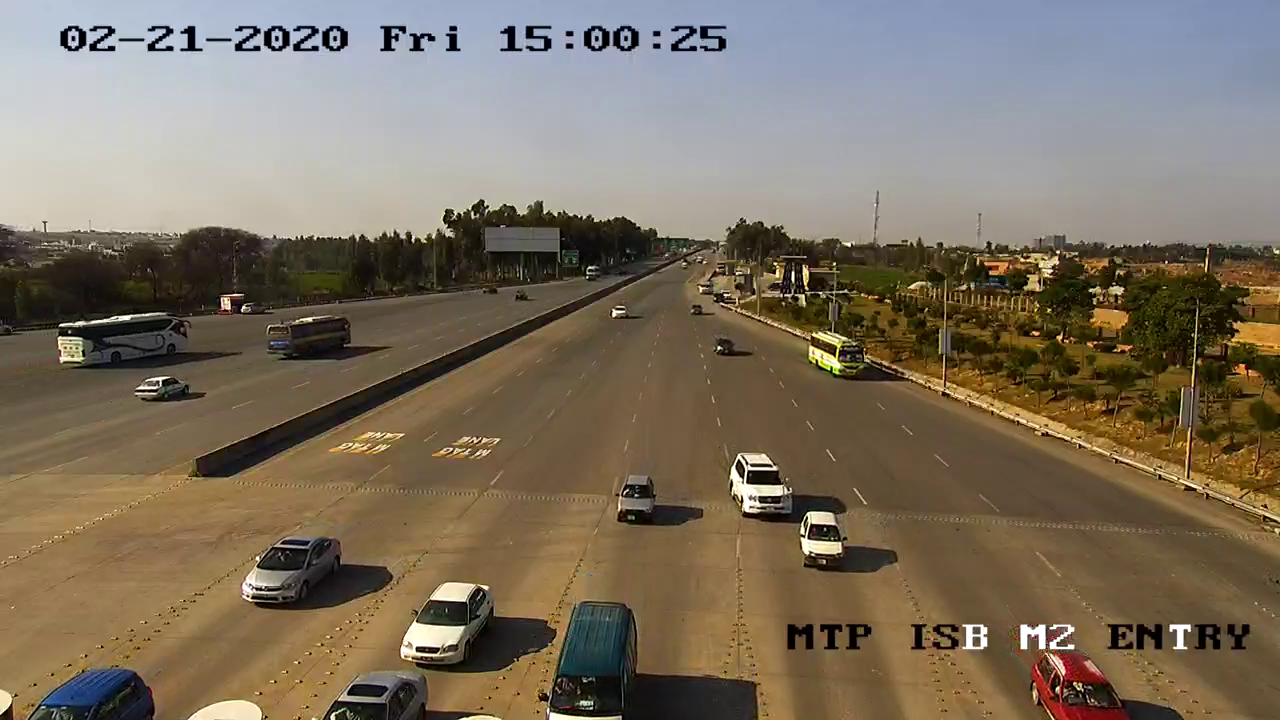f1: (383, 569, 512, 677), (228, 521, 352, 617), (720, 441, 797, 522), (792, 504, 860, 578), (605, 468, 672, 534)
f2: (535, 591, 651, 720)
